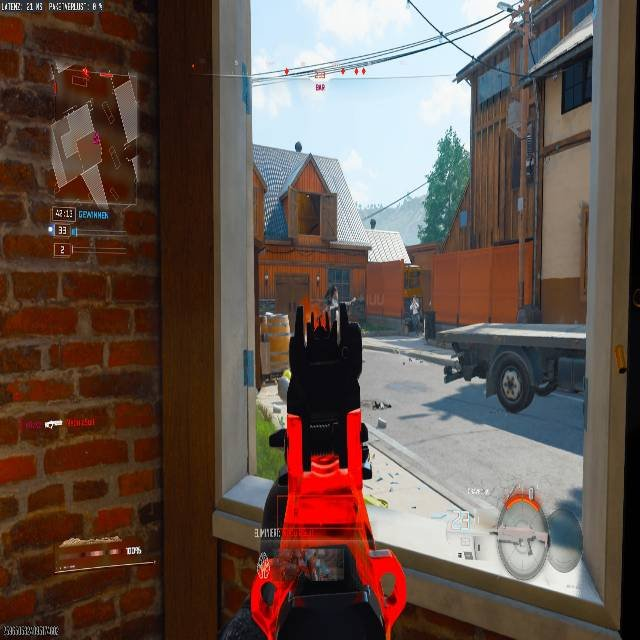player: (403, 296, 421, 335)
